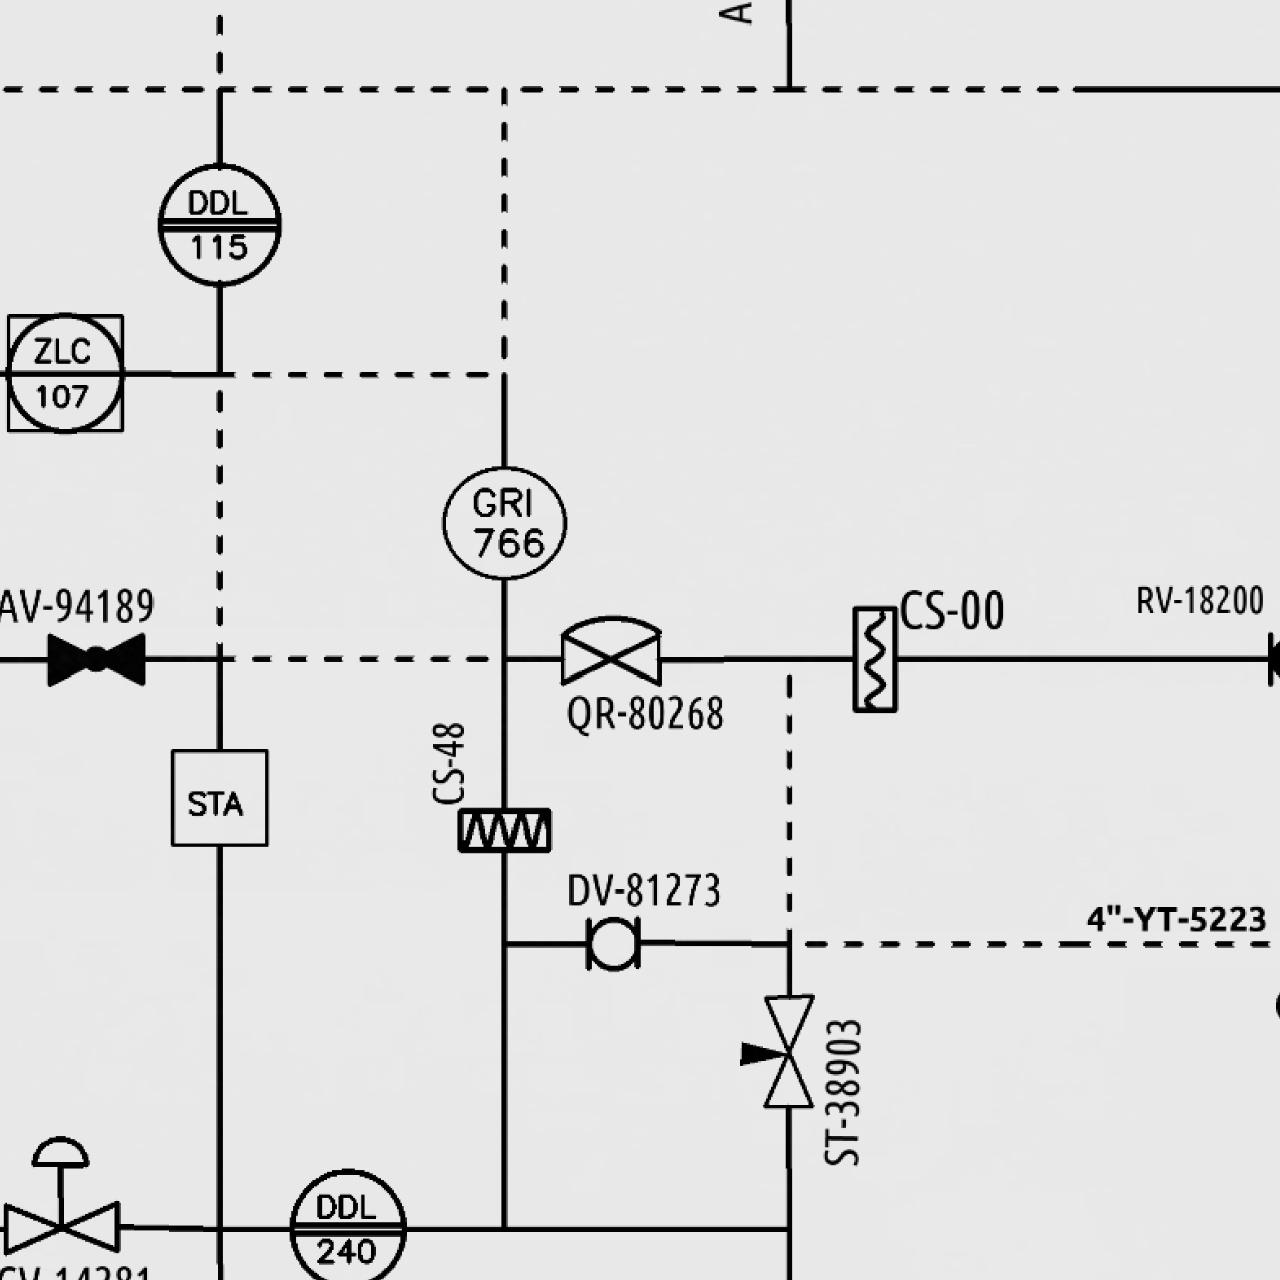Control-Panel: (152, 158, 284, 290)
